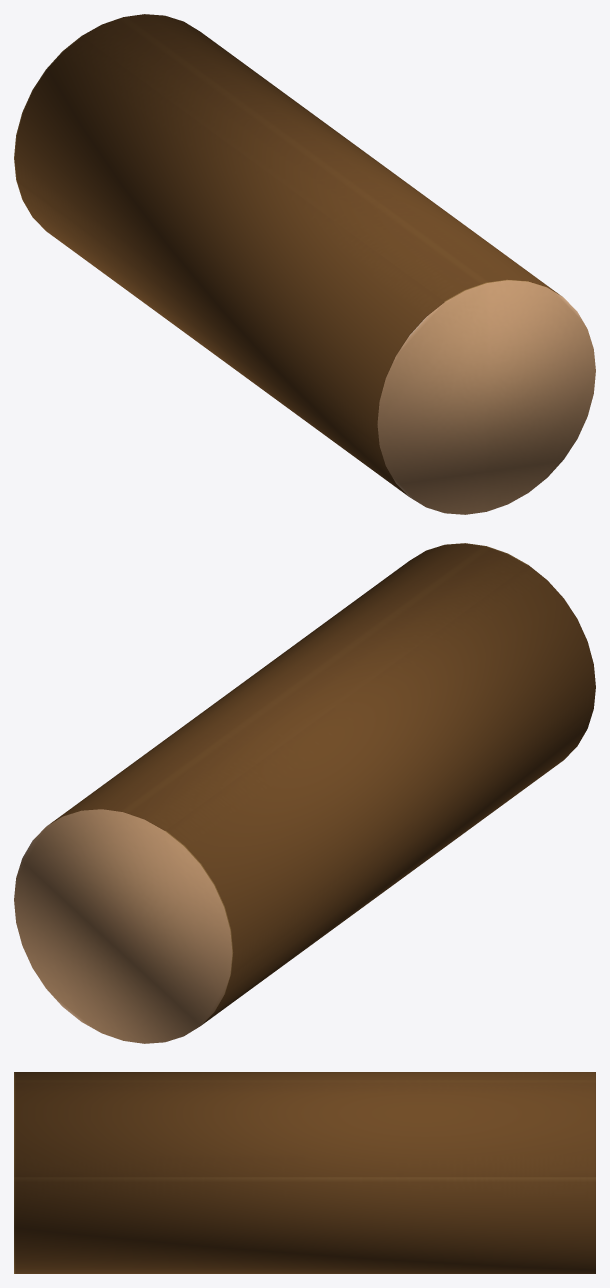
File: balance_base_LOD0.fbx
The picture shows the model from 3 angles, top to bottom: view 1: azimuth 30°, elevation 25°; view 2: azimuth 150°, elevation 25°; view 3: azimuth 270°, elevation 25°; orthographic projection. The views are drawn at different scales.
Visible parts, largest first — view 1: balance_base_LOD0; view 2: balance_base_LOD0; view 3: balance_base_LOD0.
Boxes of the visible parts, x1,y1,x2,y2 form: balance_base_LOD0: [14, 14, 595, 514]; balance_base_LOD0: [14, 543, 595, 1043]; balance_base_LOD0: [14, 1072, 595, 1273].
Bounding box in the file's own units: 69.92 × 69.92 × 201.
